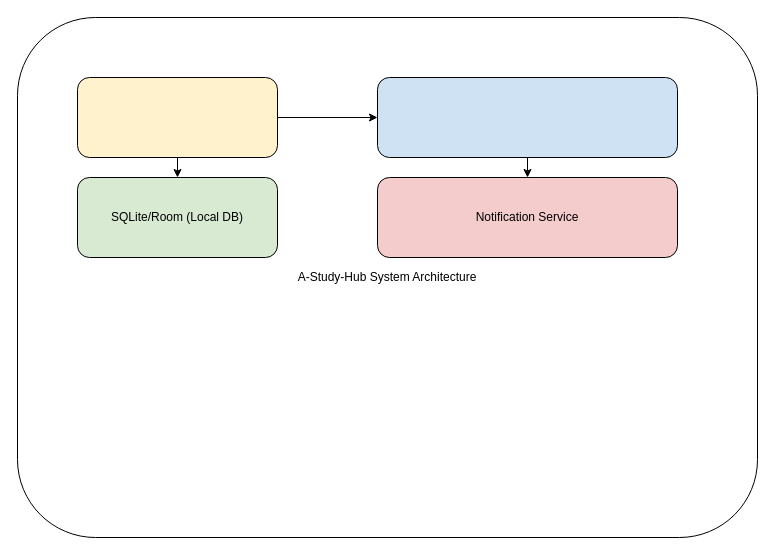
Some shapes in this 775 by 555 pixel diagram are drawn without their labels. The shapes that lost their labels are listed below. From the top down, each one's box as (x1, y1, x2, y2) in pixels, then its label:
(76, 76, 278, 158): Android Client (Java)
(376, 76, 678, 158): Firebase Realtime Database
